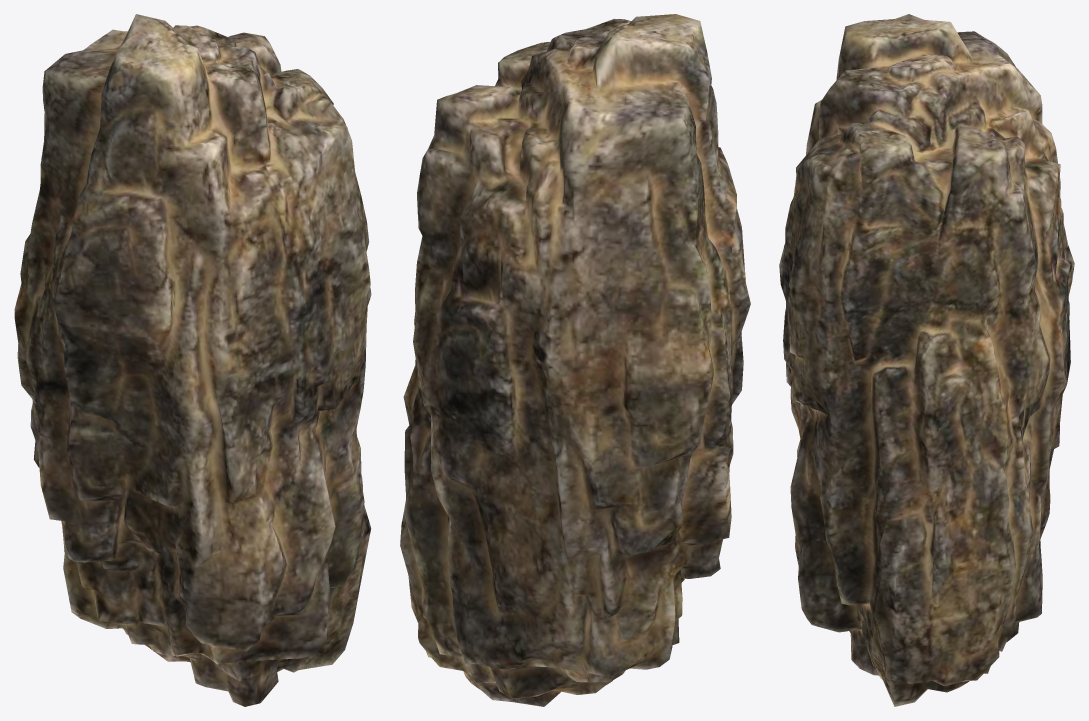
The model's file is Rock - Dark 2-qb4bWZa0.glb.
3 views of the same model, side by side, from view 1: azimuth 30°, elevation 25°; view 2: azimuth 150°, elevation 25°; view 3: azimuth 270°, elevation 25° (orthographic). The views are drawn at different scales.
Parts seen in each view (by area): view 1: DarkRock_2; view 2: DarkRock_2; view 3: DarkRock_2.
Part boxes in pixels (x1,y1,x2,y2): DarkRock_2: [14, 14, 371, 706]; DarkRock_2: [400, 14, 750, 706]; DarkRock_2: [779, 14, 1074, 706].
Bounding box in the file's own units: 4.64 × 9.5 × 4.12.
1 material, 1 textured.
